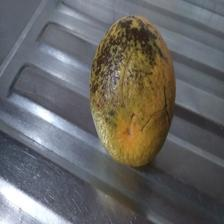Mango Semirotten: (88, 10, 178, 169)
